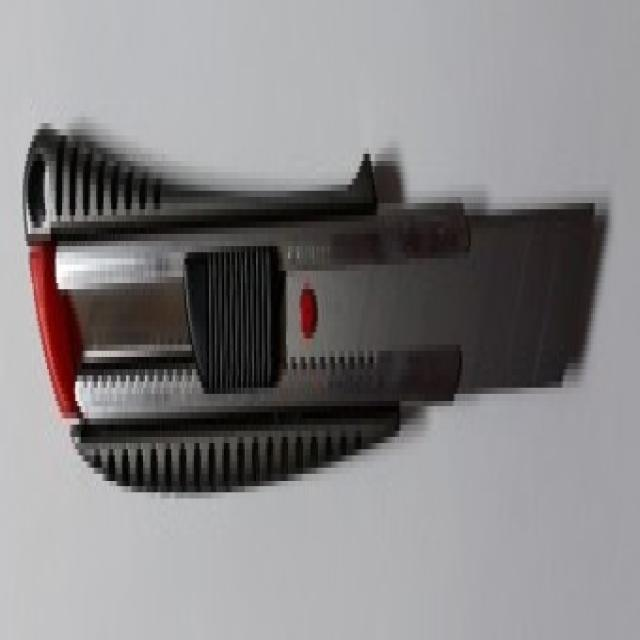cutter: (19, 110, 626, 496)
